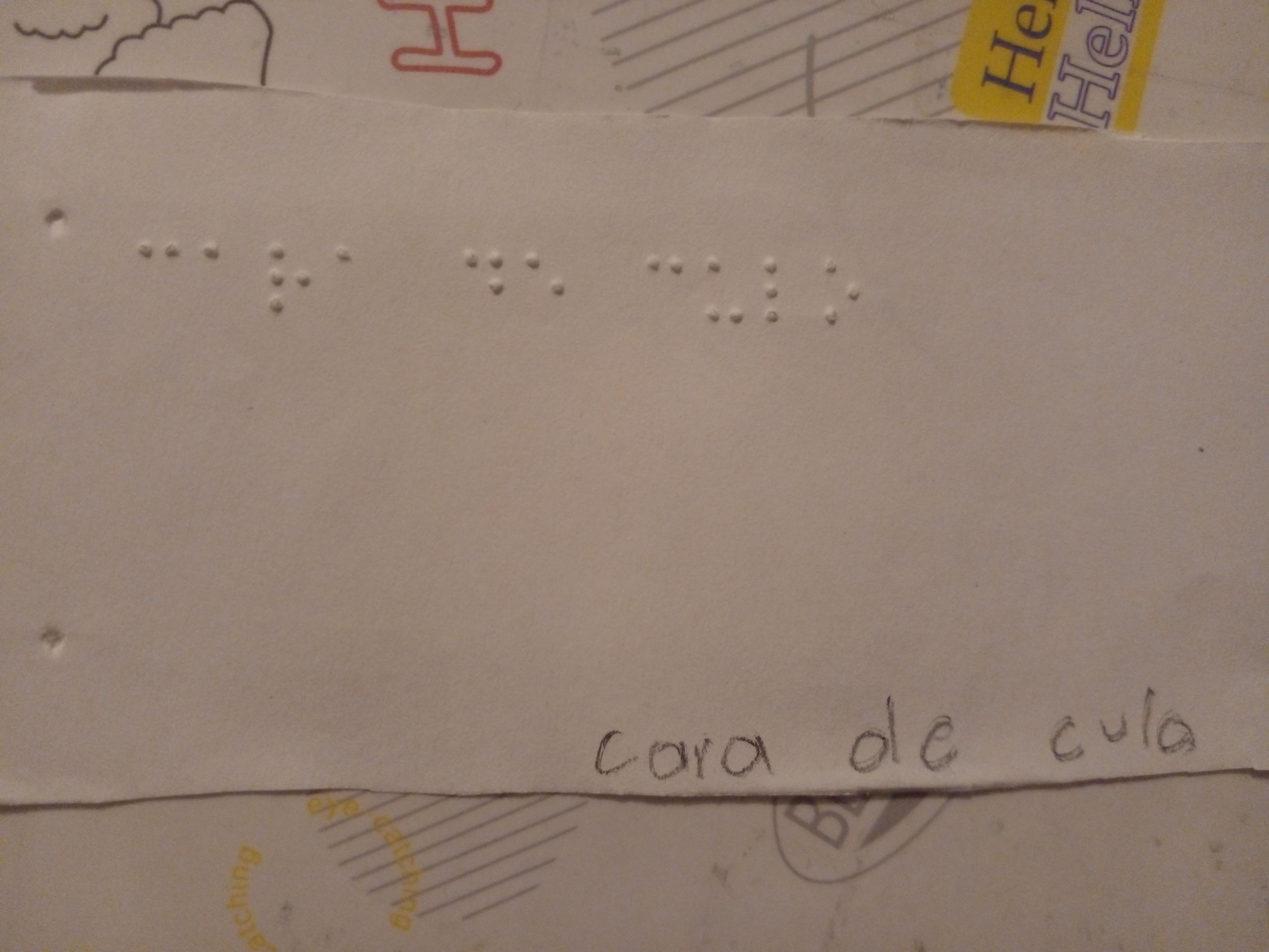a: (322, 228, 366, 293), (192, 220, 225, 284)
c: (133, 220, 183, 282), (638, 248, 689, 294)
d: (457, 239, 508, 302)
e: (519, 242, 570, 311)
l: (754, 254, 792, 335)
o: (809, 256, 867, 332)
r: (260, 215, 318, 321)
u: (697, 253, 748, 328)
